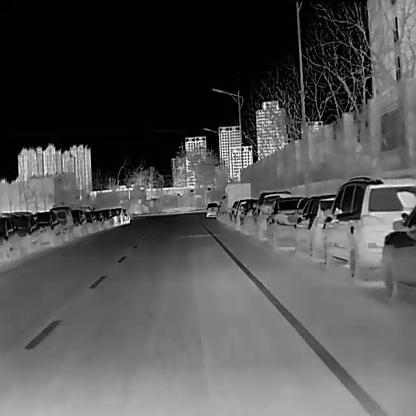car: (321, 175, 415, 279), (293, 193, 337, 261), (265, 195, 308, 249), (250, 189, 292, 242), (221, 182, 250, 224), (12, 211, 40, 253), (32, 210, 62, 247), (0, 213, 21, 260), (49, 205, 74, 242), (239, 197, 258, 235), (70, 208, 88, 237), (85, 212, 98, 233), (100, 207, 113, 228), (111, 206, 121, 225), (205, 202, 218, 216), (122, 208, 130, 223)
